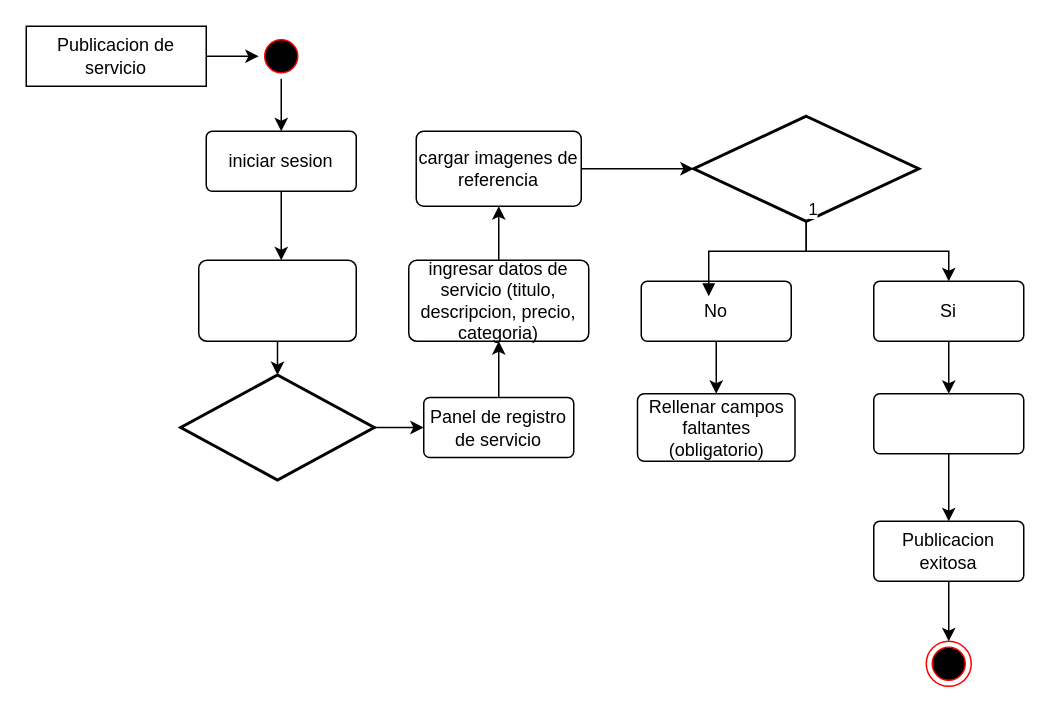
The diagram is 1050 pixels wide and 713 high, and some of its shapes have lost their labels. Each missing label, with the box of its shape:
Acceder al panel de "Mis servicios": (197, 259, 356, 341)
Publicar servicio?: (178, 373, 375, 481)
Registrar, activar servicio: (872, 392, 1024, 454)
¿Datos completos ?: (692, 114, 920, 222)
